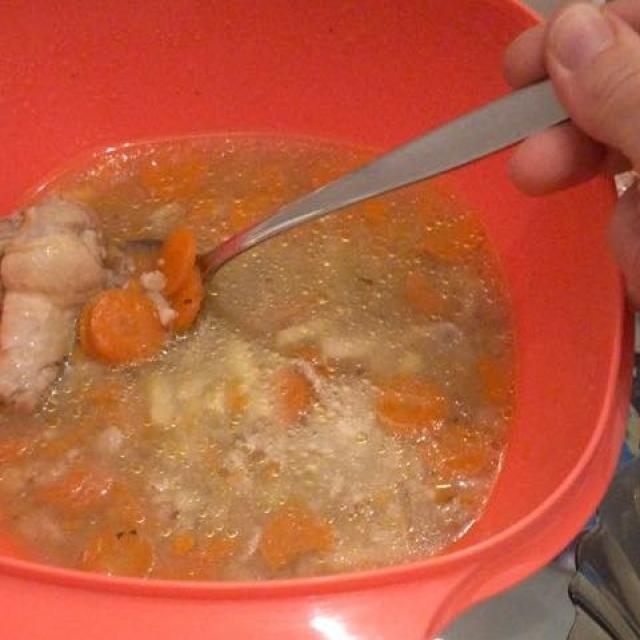chicken: (1, 206, 137, 431)
soup: (4, 126, 543, 586)
